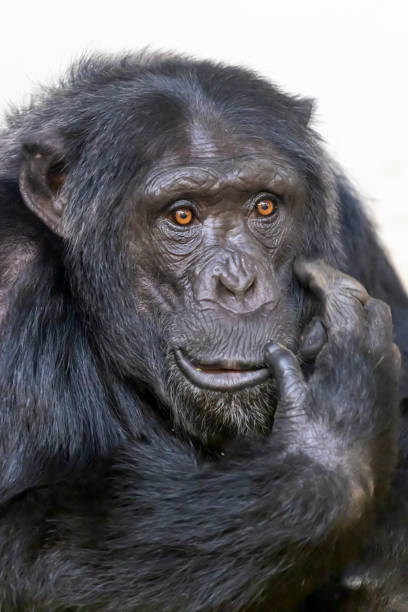chimpanzee: (2, 36, 367, 516)
